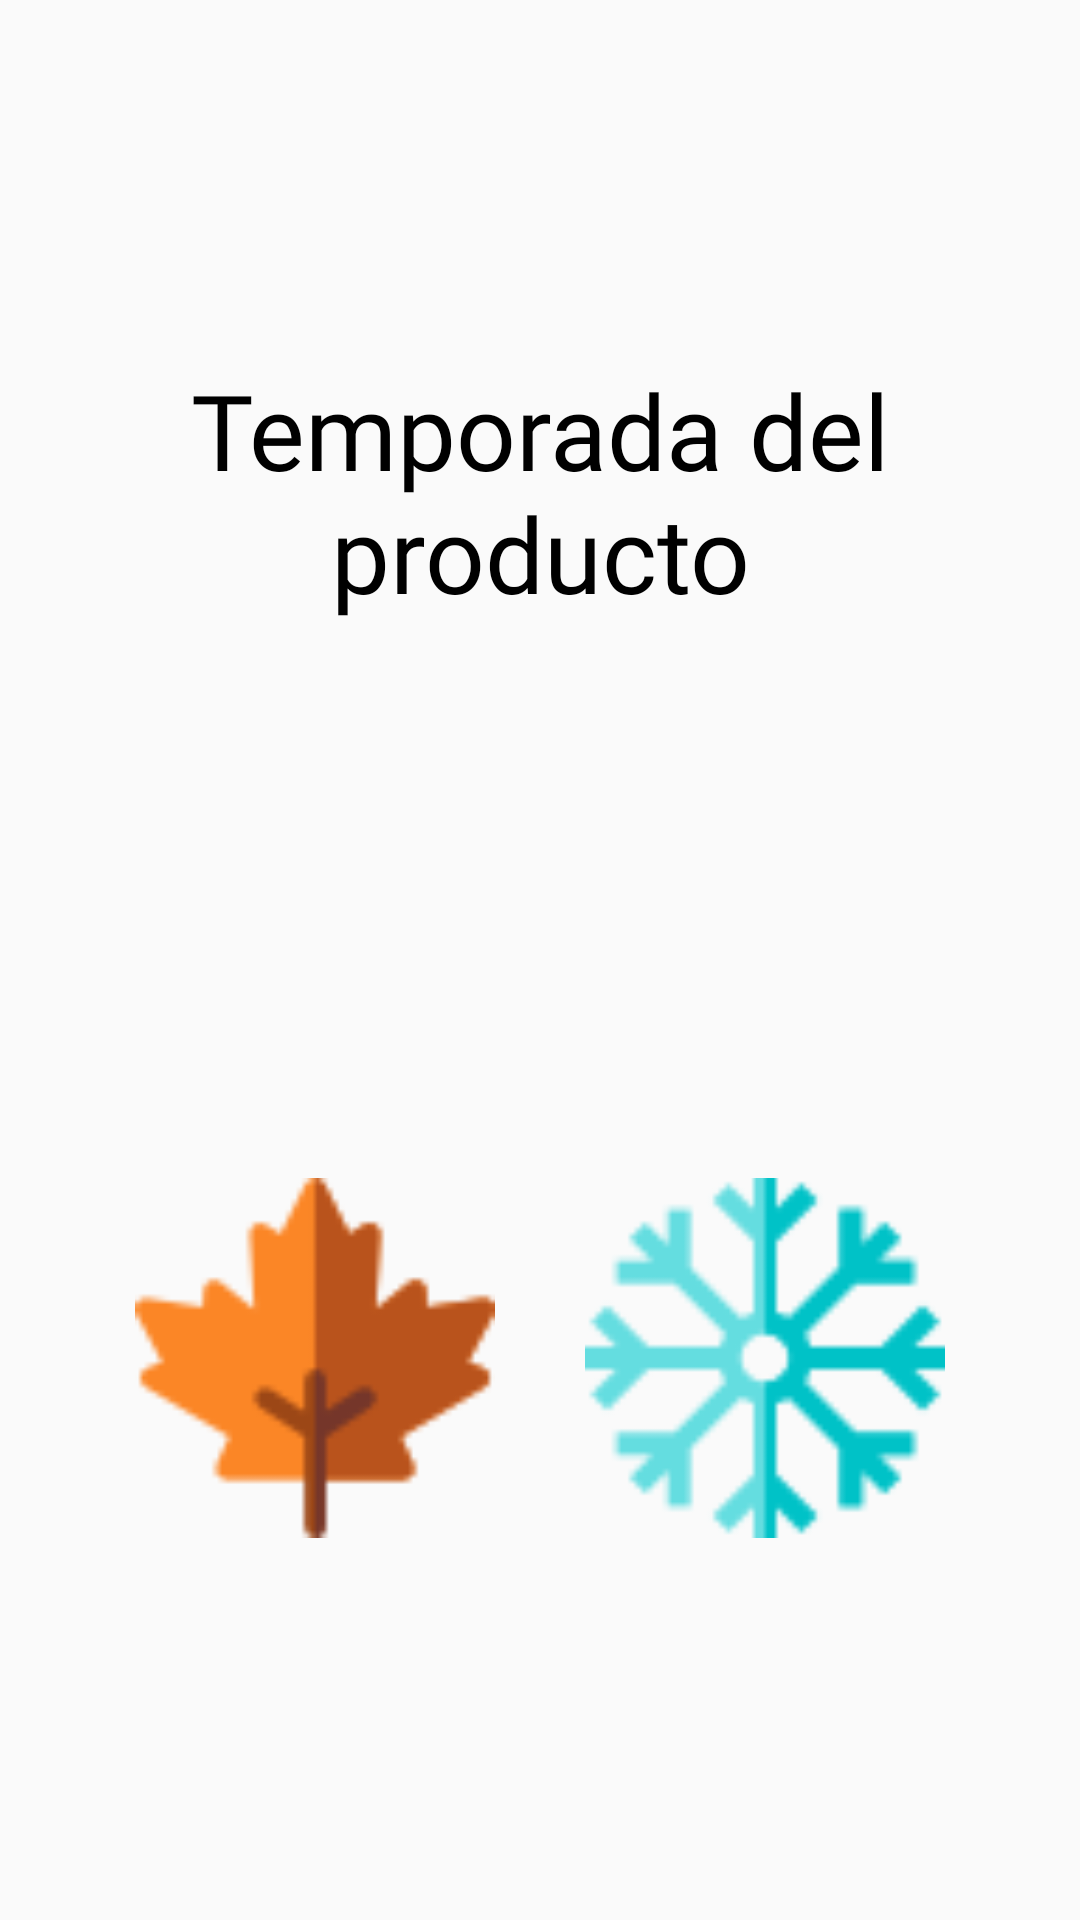

Screen size 1080px x 1920px. Icon name, then its center in pixels as point (x, y):
invierno: point (765, 1358)
otonio: point (315, 1358)
